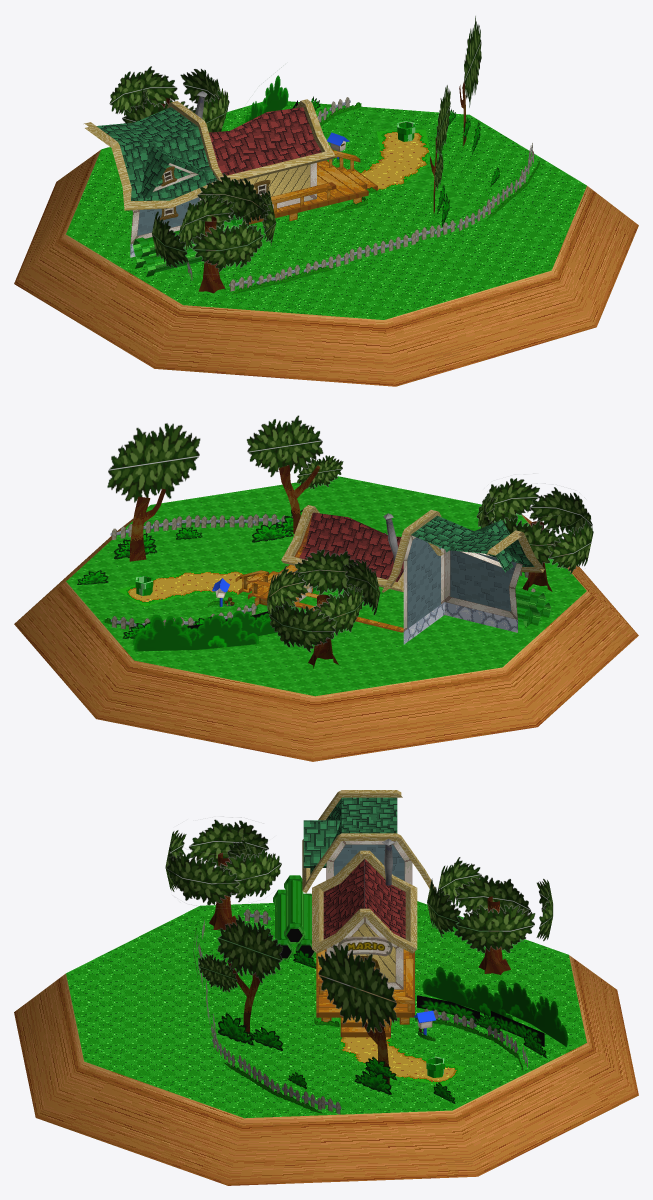
Rendered from mario_house.glb.
3 views of the same model, one above another, from view 1: azimuth 30°, elevation 25°; view 2: azimuth 150°, elevation 25°; view 3: azimuth 270°, elevation 25° (orthographic). The views are drawn at different scales.
Visible parts, largest first — view 1: Object_16, Object_2, Object_5, Object_24, Object_40, Object_12, Object_19, Object_41, Object_11, Object_4, Object_15, Object_3 (+9 smaller); view 2: Object_2, Object_16, Object_5, Object_18, Object_13, Object_29, Object_21, Object_19, Object_22, Object_14, Object_41, Object_12 (+7 smaller); view 3: Object_16, Object_2, Object_5, Object_13, Object_22, Object_11, Object_12, Object_21, Object_19, Object_41, Object_14, Object_24 (+12 smaller).
Boxes of the visible parts, x1,y1,x2,y2 form: Object_16: (66,101,586,319); Object_2: (14,150,638,386); Object_5: (109,15,481,274); Object_24: (209,107,321,175); Object_40: (120,107,217,200); Object_12: (210,148,377,224); Object_19: (187,97,534,291); Object_41: (84,101,223,210); Object_11: (96,122,207,199); Object_4: (358,147,429,190); Object_15: (227,103,335,181); Object_3: (231,102,540,294); Object_2: (14,506,638,761); Object_16: (66,476,586,696); Object_5: (107,415,593,652); Object_18: (407,537,516,628); Object_13: (133,601,305,651); Object_29: (297,512,403,581); Object_21: (129,465,552,668); Object_19: (110,513,535,630); Object_22: (77,508,303,638); Object_14: (215,535,522,631); Object_41: (382,509,544,592); Object_12: (235,513,403,632); Object_16: (66,901,586,1118); Object_2: (14,955,638,1185); Object_5: (165,816,553,1032); Object_13: (422,966,568,1046); Object_22: (218,929,546,1103); Object_11: (303,797,397,867); Object_12: (316,949,414,1037); Object_21: (209,852,510,1083); Object_19: (196,909,527,1114); Object_41: (302,790,435,893); Object_14: (326,841,432,1028); Object_24: (323,859,364,939).
Size of the model in its own units: 24.76 by 8.13 by 24.76.
Materials: 40 (40 with a texture image).
